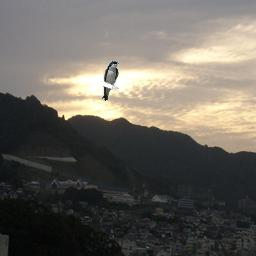Swallow: (102, 61, 119, 101)
